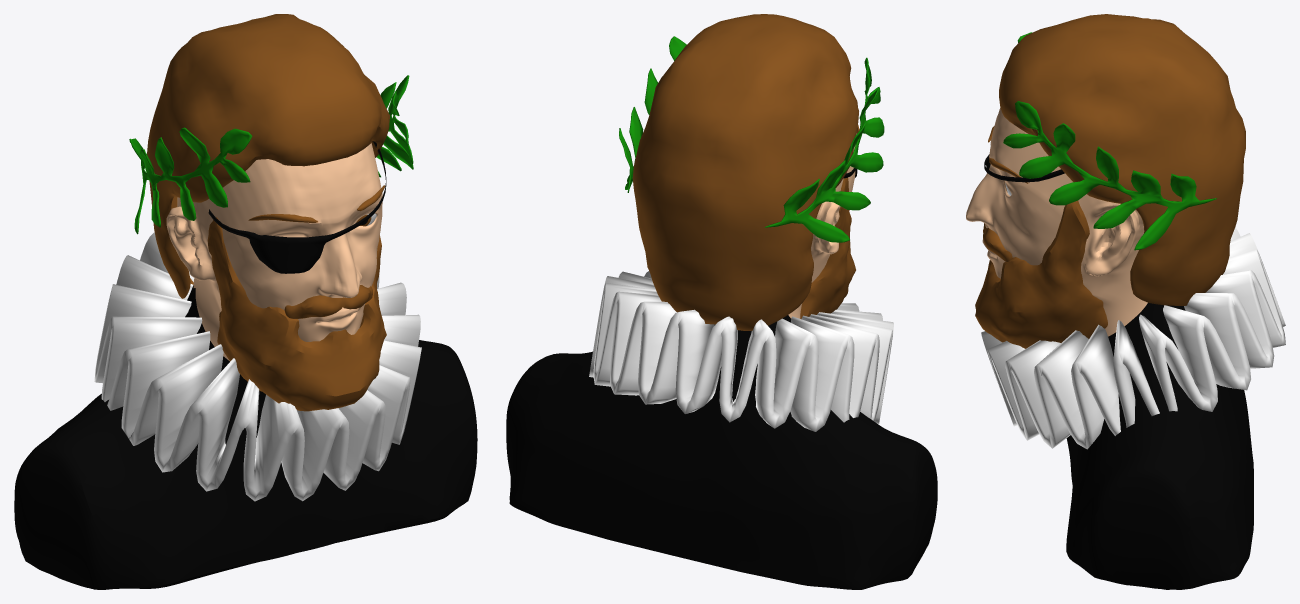
File: port-asset.glb
3 renders of one model, left to right at view 1: azimuth 30°, elevation 25°; view 2: azimuth 150°, elevation 25°; view 3: azimuth 270°, elevation 25°, orthographic. The views are drawn at different scales.
Parts seen in each view (by area): view 1: Human 2, hair, Plane, folhas, BezierCurve; view 2: Human 2, hair, Plane, folhas; view 3: hair, Human 2, Plane, folhas, BezierCurve.
Part boxes in pixels (x1,y1,x2,y2): Human 2: (14,143,477,589); hair: (147,14,389,411); Plane: (94,232,421,501); folhas: (129,75,413,234); BezierCurve: (208,141,386,273); Human 2: (506,125,937,589); hair: (632,14,858,330); Plane: (589,271,893,431); folhas: (619,36,884,242); hair: (975,14,1245,348); Human 2: (966,108,1253,589); Plane: (981,227,1285,449); folhas: (1003,32,1216,250); BezierCurve: (984,154,1064,182).
Size of the model in its own units: 41.84 by 46.91 by 28.83.
